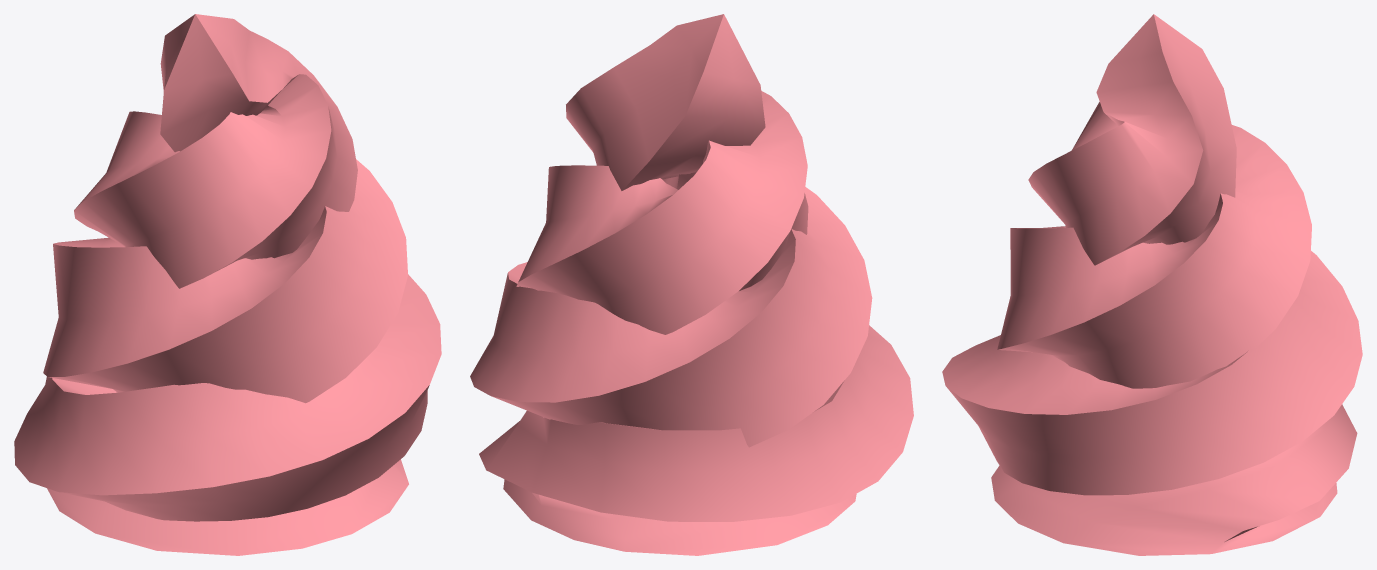
File: Ice Cream Hat K.fbx
3 views of the same model, side by side, from view 1: azimuth 30°, elevation 25°; view 2: azimuth 150°, elevation 25°; view 3: azimuth 270°, elevation 25° (orthographic). The views are drawn at different scales.
Visible parts, largest first — view 1: Ice Cream Hat K; view 2: Ice Cream Hat K; view 3: Ice Cream Hat K.
Boxes of the visible parts, <box> form: Ice Cream Hat K: <box>14,14,441,555</box>; Ice Cream Hat K: <box>470,14,913,555</box>; Ice Cream Hat K: <box>942,14,1362,555</box>.
Bounding box in the file's own units: 0.494 × 0.5946 × 0.4981.
